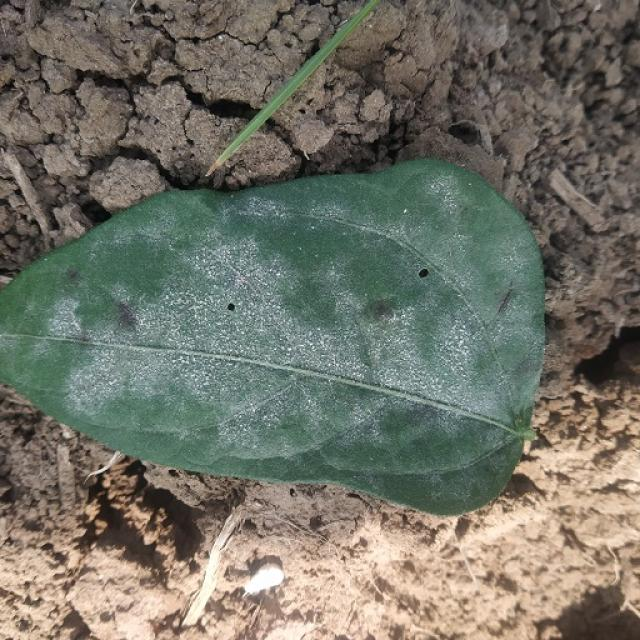Blackgram: (0, 159, 544, 514)
Powdery_Mildew: (42, 199, 514, 446), (83, 324, 343, 447), (156, 217, 347, 350), (9, 228, 165, 369), (76, 204, 238, 298), (224, 290, 363, 389), (214, 369, 333, 452), (399, 284, 496, 382), (202, 276, 301, 348), (65, 347, 156, 425), (345, 394, 458, 456), (216, 255, 278, 314), (407, 176, 473, 226), (36, 296, 96, 345), (47, 288, 93, 341), (435, 315, 480, 362), (503, 351, 539, 393), (116, 301, 139, 331), (354, 341, 376, 372), (371, 300, 394, 319), (66, 268, 81, 281)
